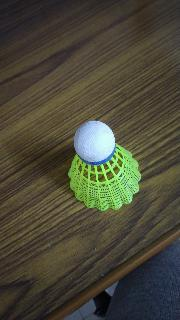shuttlecock: (68, 121, 140, 211)
